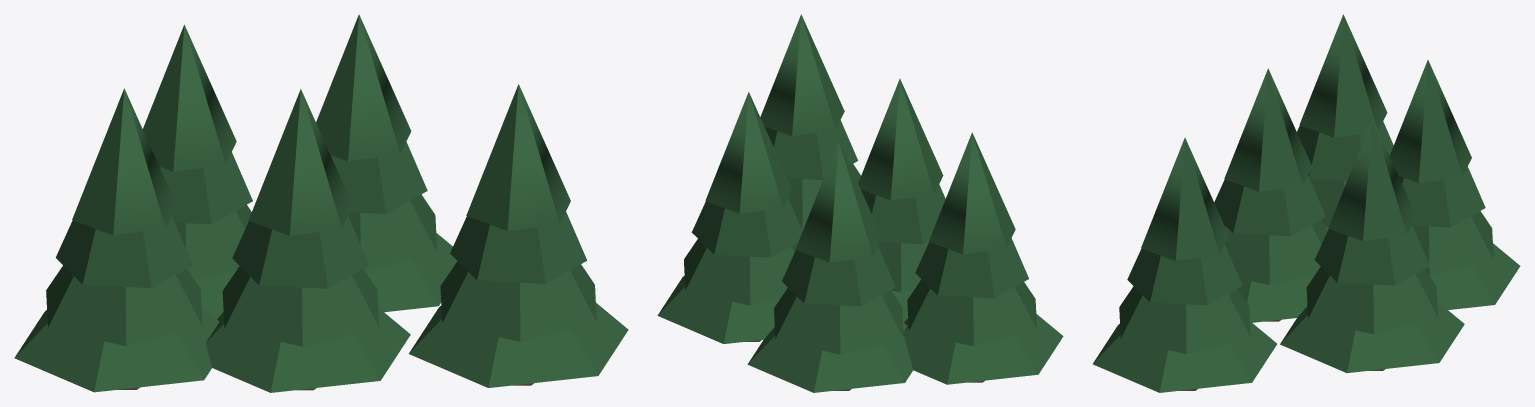
Rendered from forest 1.fbx.
3 views of the same model, side by side, from view 1: azimuth 30°, elevation 25°; view 2: azimuth 150°, elevation 25°; view 3: azimuth 270°, elevation 25° (orthographic). The views are drawn at different scales.
Visible parts, largest first — view 1: tree__2_; view 2: tree__2_; view 3: tree__2_.
Part boxes in pixels (x1,y1,x2,y2): tree__2_: (14, 14, 628, 392); tree__2_: (657, 14, 1063, 392); tree__2_: (1093, 14, 1520, 392).
Size of the model in its own units: 2015 by 1150 by 1813.
